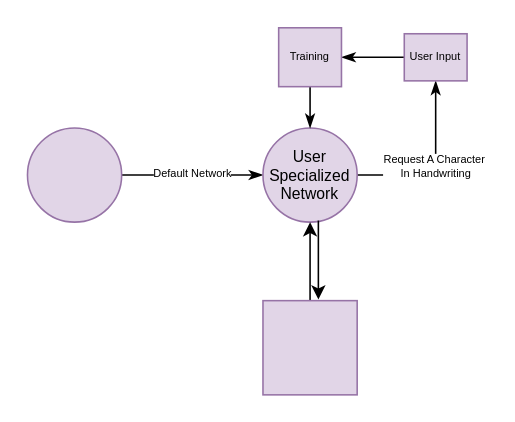
This 515x422 diagram has some shape labels left out. The centre of each missing label's shape, as x and y in pixels:
Base Neural Network: the point at 74,174
Handwriting Storage: the point at 309,347
